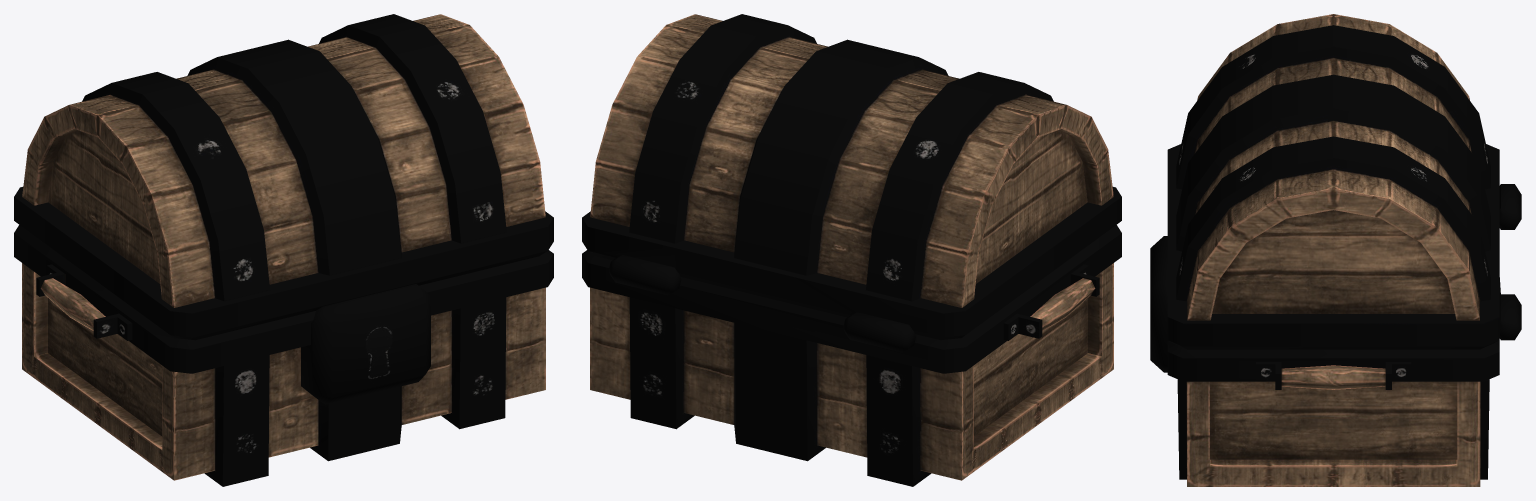
Rendered from chest_01.glb.
3 renders of one model, left to right at view 1: azimuth 30°, elevation 25°; view 2: azimuth 150°, elevation 25°; view 3: azimuth 270°, elevation 25°, orthographic. The views are drawn at different scales.
Parts seen in each view (by area): view 1: Chest_01; view 2: Chest_01; view 3: Chest_01.
Boxes of the visible parts, x1,y1,x2,y2 form: Chest_01: (14, 14, 553, 486); Chest_01: (582, 14, 1121, 486); Chest_01: (1150, 14, 1521, 486).
Size of the model in its own units: 2 by 1.45 by 1.52.
Materials: 1 (1 with a texture image).
